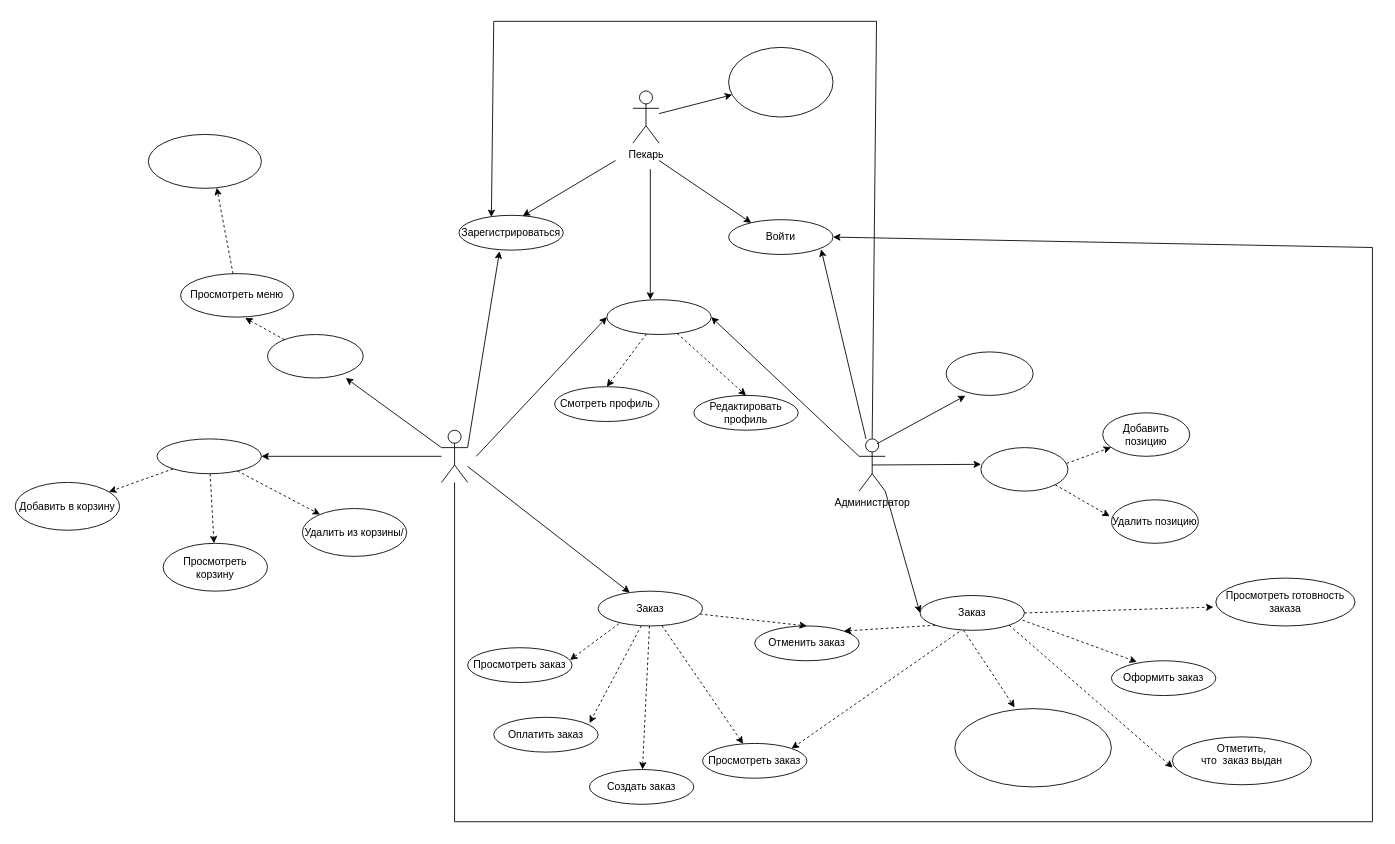
Some shapes in this 1395 by 844 pixel diagram are drawn without their labels. Each missing label, with the centre of its shape:
Клиент: [454,455]
Корзина: [208,456]
Меню: [315,356]
Отметить готовность заказа: [780,82]
Позиция: [1024,469]
Просмотреть конкретную позицию из меню: [204,161]
Просмотреть список клиентов: [989,373]
Профиль: [658,317]
Сообщить, что некоторые позиции для заказа недоступны: [1032,747]
